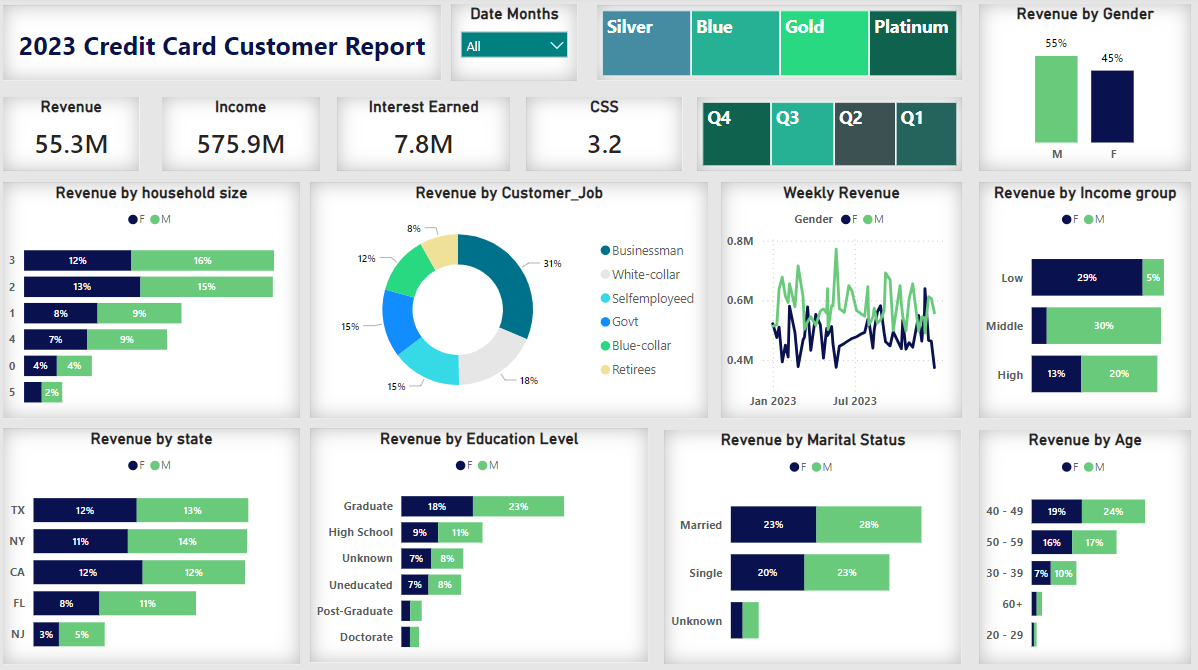

This screenshot's page, from the dashboard's own definition file:
{"tool":"powerbi","page":{"name":"Customer Report","canvas":[1280,720],"ordinal":0},"visuals":[{"type":"donutChart","fields":{"Category":["customer.Customer_Job"],"Y":["Divide(Calcs customers.Revenue, ScopedEval(Calcs customers.Revenue, []))"]},"box":[335.6,198.8,421.5,249.7],"z":0},{"type":"barChart","title":"Revenue by Marital Status","fields":{"Category":["customer.Marital_Status"],"Y":["Calcs customers.Revenue"],"Series":["customer.Gender"]},"box":[711,461.3,314.9,248.1],"z":1000},{"type":"barChart","title":"Revenue by state","fields":{"Category":["customer.state_cd"],"Y":["Calcs customers.Revenue"],"Series":["customer.Gender"]},"box":[9.5,459.7,314.9,249.7],"z":2000},{"type":"barChart","title":"Revenue by Education Level","fields":{"Category":["customer.Education_Level"],"Y":["Calcs customers.Revenue"],"Series":["customer.Gender"]},"box":[335.6,459.7,357.9,248.1],"z":3000},{"type":"card","title":"Revenue","fields":{"Values":["Calcs customers.Revenue"]},"box":[9.5,108.2,144.7,77.9],"z":4000},{"type":"card","title":"Interest Earned","fields":{"Values":["Calcs customers.Interest earned"]},"box":[364.2,108.2,182.9,77.9],"z":5000},{"type":"card","title":"Income","fields":{"Values":["Calcs customers.Income"]},"box":[178.1,108.2,167,77.9],"z":6000},{"type":"card","title":"CSS","fields":{"Values":["Avg(customer.Cust_Satisfaction_Score)"]},"box":[564.7,108.2,165.4,77.9],"z":7000},{"type":"textbox","box":[9.5,11.1,464.5,79.5],"z":8000},{"type":"treemap","fields":{"Values":["Avg(credit_card.Client_Num)"],"Group":["credit_card.Card_Category"]},"box":[639.4,11.1,386.5,79.5],"z":9000},{"type":"lineChart","title":"Weekly Revenue","fields":{"Category":["credit_card.Week_Start_Date.Variation.Date Hierarchy.Year","credit_card.Week_Start_Date.Variation.Date Hierarchy.Quarter","credit_card.Week_Start_Date.Variation.Date Hierarchy.Month","credit_card.Week_Start_Date.Variation.Date Hierarchy.Day"],"Y":["Calcs customers.Revenue"],"Series":["customer.Gender"]},"box":[771.4,198.8,254.5,249.7],"z":10000},{"type":"barChart","title":"Revenue by household size ","fields":{"Category":["customer.Dependent_Count"],"Y":["Calcs customers.Revenue"],"Series":["customer.Gender"]},"box":[9.5,198.8,314.9,249.7],"z":11000},{"type":"slicer","title":"Date Months","fields":{"Values":["credit_card.Week_Start_Date.Variation.Date Hierarchy.Month"]},"box":[485.1,9.5,133.6,81.1],"z":12000},{"type":"treemap","fields":{"Group":["credit_card.Qtr"],"Values":["Avg(credit_card.Client_Num)"]},"box":[746,108.2,279.9,77.9],"z":13000},{"type":"clusteredColumnChart","title":"Revenue by Gender","fields":{"Category":["customer.Gender"],"Y":["Calcs customers.Revenue"]},"box":[1045,9.5,224.3,176.6],"z":14000},{"type":"barChart","title":"Revenue by Income group","fields":{"Category":["customer.Income (groups)"],"Y":["Calcs customers.Revenue"],"Series":["customer.Gender"]},"box":[1045,198.8,224.3,249.7],"z":15000},{"type":"barChart","title":"Revenue by Age","fields":{"Category":["customer.Customer_Age (groups)"],"Y":["Calcs customers.Revenue"],"Series":["customer.Gender"]},"box":[1045,461.3,224.3,248.1],"z":16000}]}

Visuals, with their boxes in screenshot pixels (x1, y1, x2, y2), scaled from the page's 1280x720 canvas onto the 1198x670 screenshot:
donutChart - customer.Customer_Job x Divide(Calcs customers.Revenue, ScopedEval(Calcs customers.Revenue, [])): bbox(314, 185, 709, 417)
"Revenue by Marital Status" barChart: bbox(665, 429, 960, 660)
"Revenue by state" barChart: bbox(9, 428, 304, 660)
"Revenue by Education Level" barChart: bbox(314, 428, 649, 659)
"Revenue" card: bbox(9, 101, 144, 173)
"Interest Earned" card: bbox(341, 101, 512, 173)
"Income" card: bbox(167, 101, 323, 173)
"CSS" card: bbox(529, 101, 683, 173)
textbox: bbox(9, 10, 444, 84)
treemap - Avg(credit_card.Client_Num) x credit_card.Card_Category: bbox(598, 10, 960, 84)
"Weekly Revenue" lineChart: bbox(722, 185, 960, 417)
"Revenue by household size " barChart: bbox(9, 185, 304, 417)
"Date Months" slicer: bbox(454, 9, 579, 84)
treemap - credit_card.Qtr x Avg(credit_card.Client_Num): bbox(698, 101, 960, 173)
"Revenue by Gender" clusteredColumnChart: bbox(978, 9, 1188, 173)
"Revenue by Income group" barChart: bbox(978, 185, 1188, 417)
"Revenue by Age" barChart: bbox(978, 429, 1188, 660)
